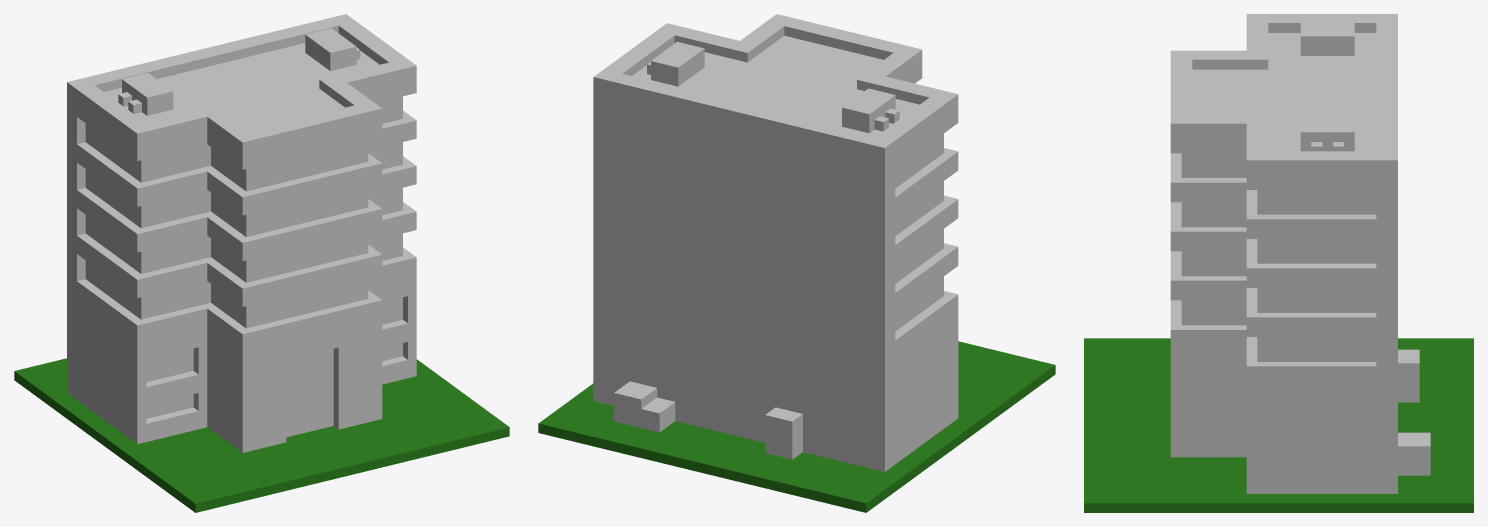
3 views of the same model, side by side, from view 1: azimuth 30°, elevation 25°; view 2: azimuth 150°, elevation 25°; view 3: azimuth 270°, elevation 25° (orthographic). The views are drawn at different scales.
Visible parts, largest first — view 1: building_4; view 2: building_4; view 3: building_4.
Boxes of the visible parts, x1=… form: building_4: x1=14, y1=14, x2=509, y2=512; building_4: x1=538, y1=14, x2=1055, y2=512; building_4: x1=1084, y1=14, x2=1473, y2=512.
Bounding box in the file's own units: 9 × 9 × 9.
